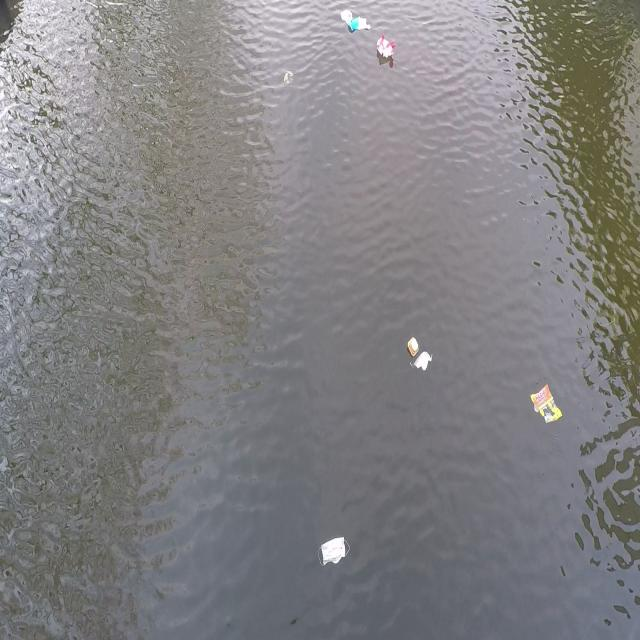Autre plastique: (406, 336, 418, 355)
Non plastique: (317, 534, 357, 574), (408, 351, 436, 374)
Sac plastique: (340, 10, 372, 34), (376, 32, 395, 61)
